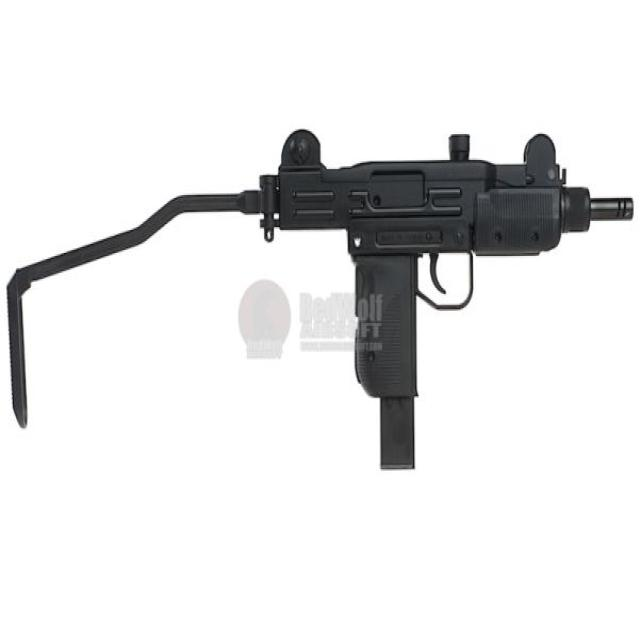SMG: (7, 130, 636, 472)
